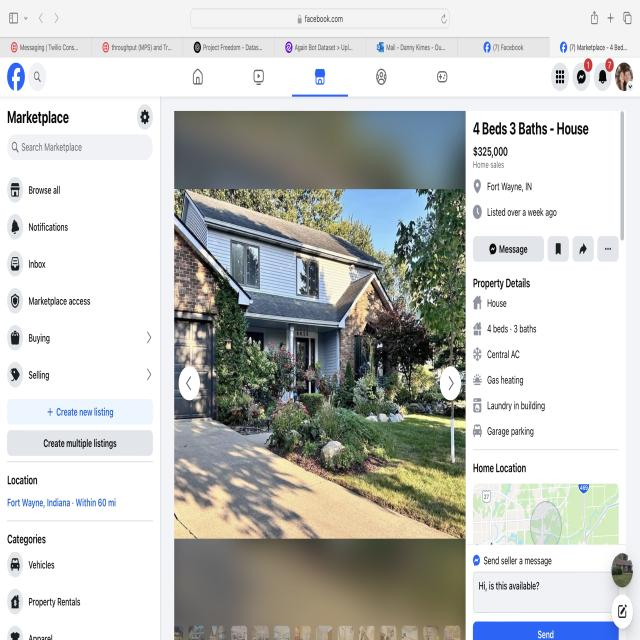message_button: (476, 621, 617, 640)
